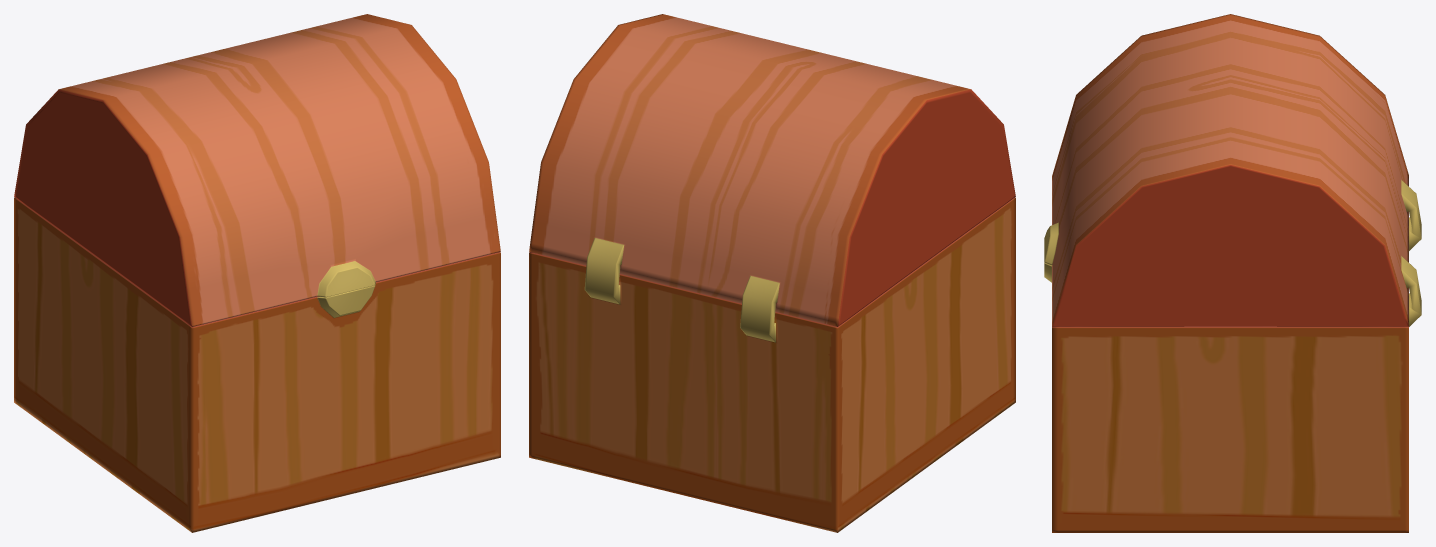
File: treasure_chest.dae
The picture shows the model from 3 angles, left to right: view 1: azimuth 30°, elevation 25°; view 2: azimuth 150°, elevation 25°; view 3: azimuth 270°, elevation 25°; orthographic projection.
Parts seen in each view (by area): view 1: Cube; view 2: Cube; view 3: Cube.
Part boxes in pixels (left/top/right/bottom): Cube: left=14, top=14, right=500, bottom=532; Cube: left=529, top=14, right=1015, bottom=532; Cube: left=1044, top=14, right=1421, bottom=532.
Size of the model in its own units: 2 by 2.11 by 2.28.
1 material, 1 textured.
